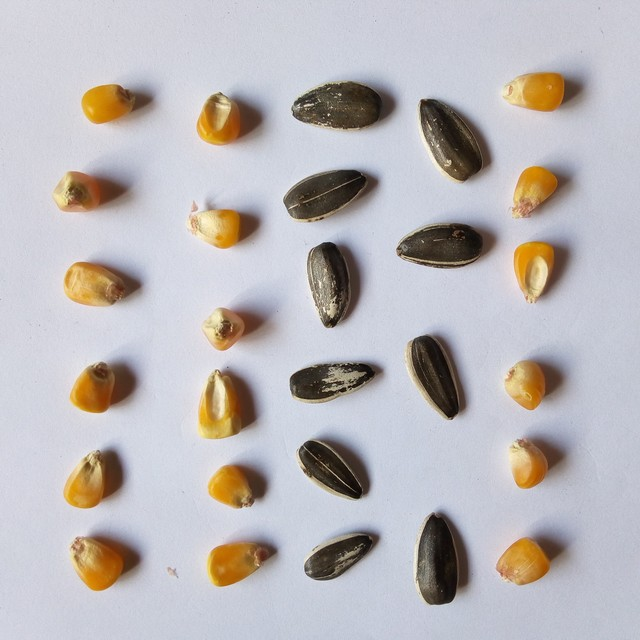girasol: (412, 92, 489, 185), (402, 329, 470, 423), (290, 76, 390, 137), (292, 433, 373, 506), (410, 507, 465, 610), (281, 164, 370, 227), (395, 218, 488, 277), (301, 239, 357, 331), (284, 352, 375, 403), (302, 527, 377, 584)
maiz: (506, 237, 568, 307), (203, 535, 275, 592), (61, 534, 131, 592), (195, 368, 246, 443), (58, 258, 131, 309), (491, 536, 555, 592), (180, 201, 253, 250), (509, 161, 565, 224), (498, 67, 573, 112), (193, 88, 246, 147), (63, 447, 111, 512), (66, 357, 118, 414), (498, 359, 554, 411), (503, 435, 554, 491), (204, 459, 257, 511), (79, 77, 135, 123), (52, 168, 107, 214), (197, 304, 250, 351)
